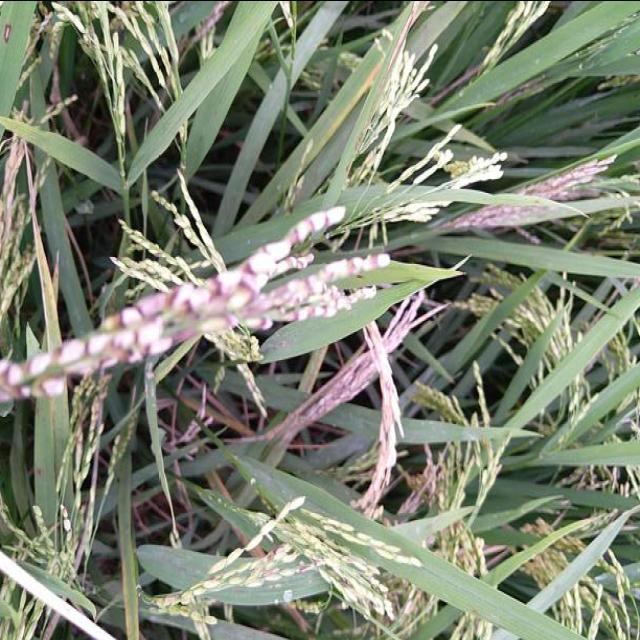Panicle Blight: (0, 205, 383, 402), (350, 320, 403, 518), (292, 335, 376, 440), (0, 139, 35, 303), (526, 152, 617, 198), (245, 543, 318, 587), (139, 590, 204, 622), (451, 205, 553, 225), (382, 296, 414, 353), (200, 570, 221, 587)
